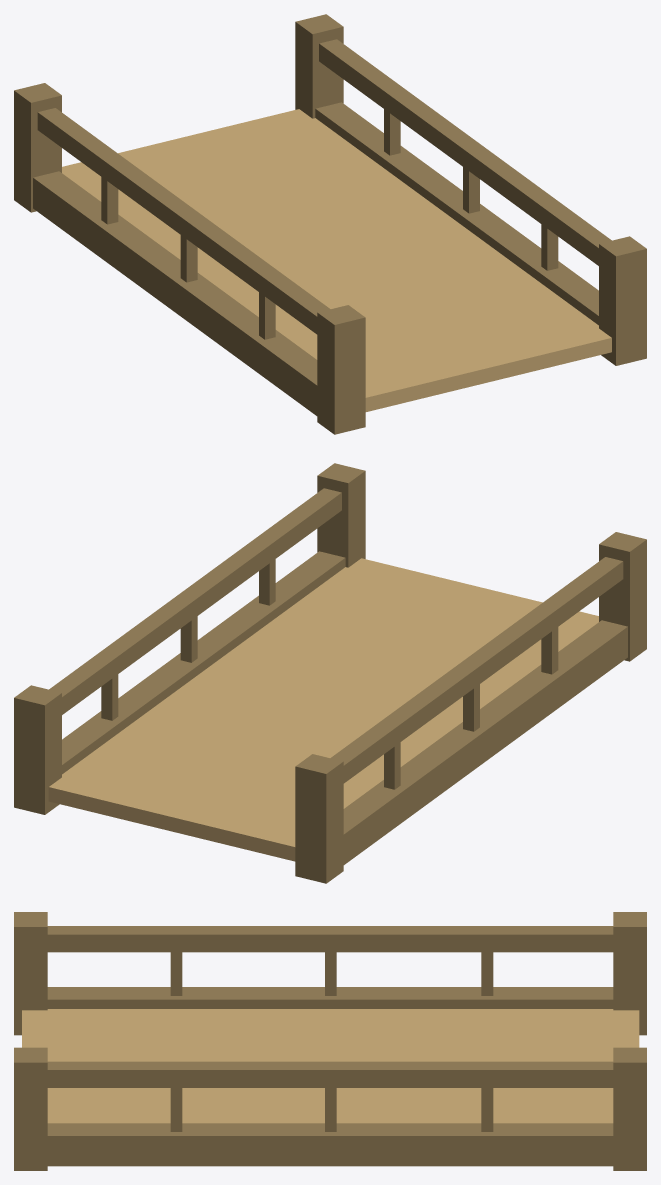
Rendered from Bridge_4_2.fbx.
3 views of the same model, one above another, from view 1: azimuth 30°, elevation 25°; view 2: azimuth 150°, elevation 25°; view 3: azimuth 270°, elevation 25° (orthographic).
Parts seen in each view (by area): view 1: Bridge_4_2; view 2: Bridge_4_2; view 3: Bridge_4_2.
Part boxes in pixels (x1,y1,x2,y2): Bridge_4_2: (14,14,646,434); Bridge_4_2: (14,463,646,883); Bridge_4_2: (14,912,646,1170).
Bounding box in the file's own units: 84.17 × 28.25 × 150.
